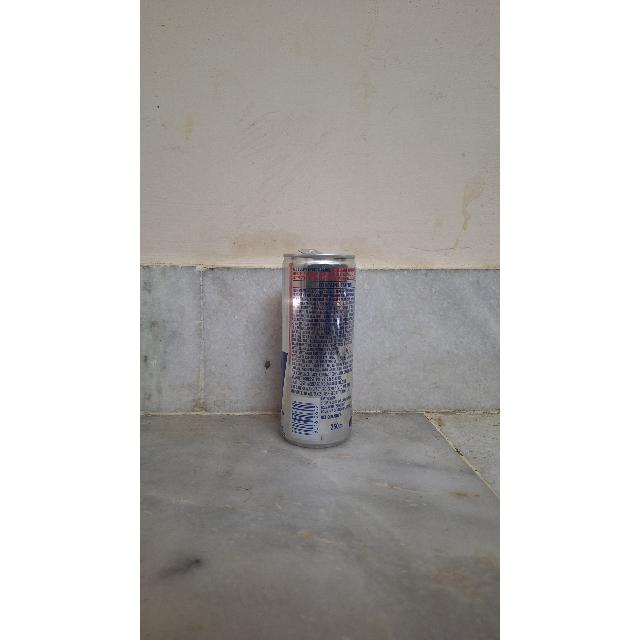Redbull: (270, 240, 368, 444)
